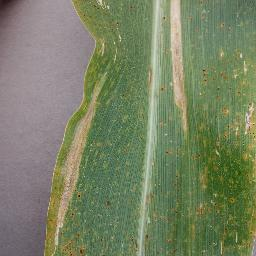Corn_Blight: (44, 44, 117, 255), (199, 49, 256, 162), (170, 204, 254, 255), (164, 0, 190, 145), (198, 165, 254, 202), (191, 0, 241, 40), (84, 1, 123, 38), (139, 185, 159, 246), (121, 218, 137, 255), (145, 60, 155, 92), (161, 149, 173, 160)
